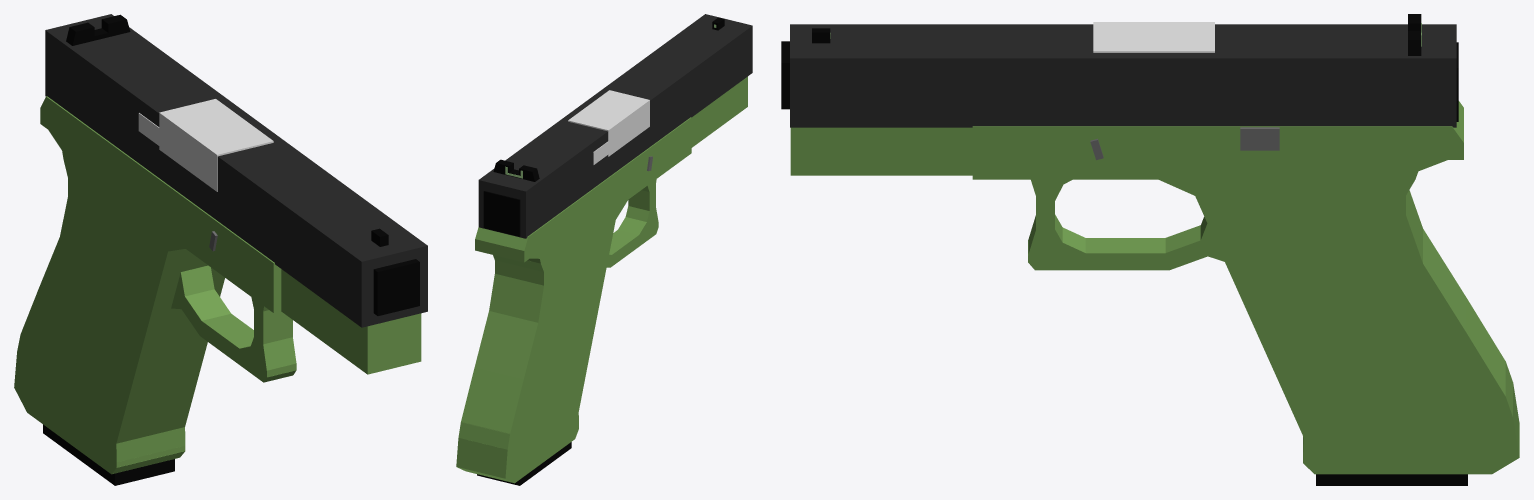
3 views of the same model, side by side, from view 1: azimuth 30°, elevation 25°; view 2: azimuth 150°, elevation 25°; view 3: azimuth 270°, elevation 25° (orthographic). The views are drawn at different scales.
Parts seen in each view (by area): view 1: Object_2, Object_4, Object_6, Object_8, Object_7; view 2: Object_2, Object_4, Object_6, Object_8, Object_7; view 3: Object_2, Object_4, Object_6, Object_7, Object_8, Object_3.
Part boxes in pixels (x1=…): Object_2: x1=14, y1=96, x2=421, y2=474; Object_4: x1=45, y1=14, x2=427, y2=327; Object_6: x1=138, y1=99, x2=273, y2=191; Object_8: x1=66, y1=14, x2=419, y2=315; Object_7: x1=43, y1=424, x2=174, y2=485; Object_2: x1=456, y1=76, x2=747, y2=483; Object_4: x1=478, y1=14, x2=752, y2=238; Object_6: x1=568, y1=90, x2=649, y2=164; Object_8: x1=483, y1=17, x2=724, y2=236; Object_7: x1=477, y1=442, x2=571, y2=485; Object_2: x1=790, y1=101, x2=1519, y2=474; Object_4: x1=790, y1=24, x2=1456, y2=127; Object_6: x1=1093, y1=22, x2=1214, y2=52; Object_7: x1=1316, y1=474, x2=1467, y2=485; Object_8: x1=781, y1=14, x2=1458, y2=121; Object_3: x1=1090, y1=127, x2=1279, y2=160.
Bounding box in the file's own units: 0.0488 × 0.2626 × 0.3961.
